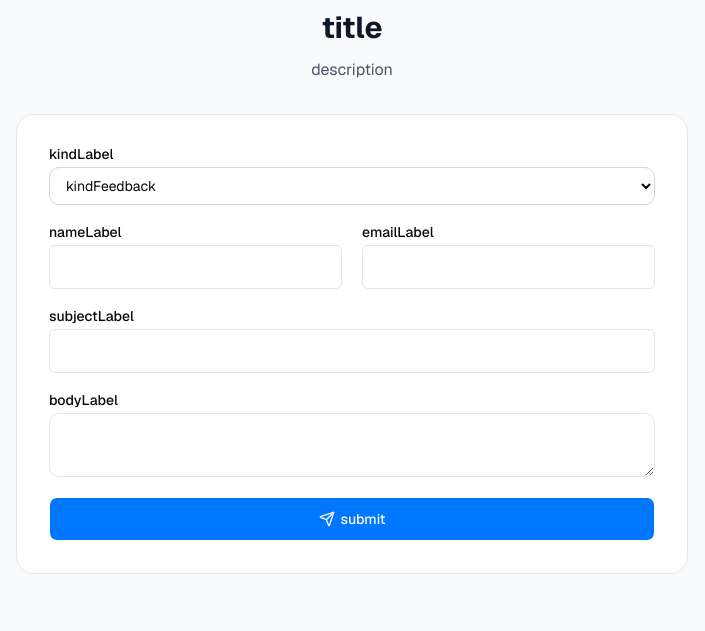
it: ContactForm › shows an error when the message is empty
In the field labelled "emailLabel": (508, 267) left=362, top=245, right=655, bottom=289, type "jane@example.com"
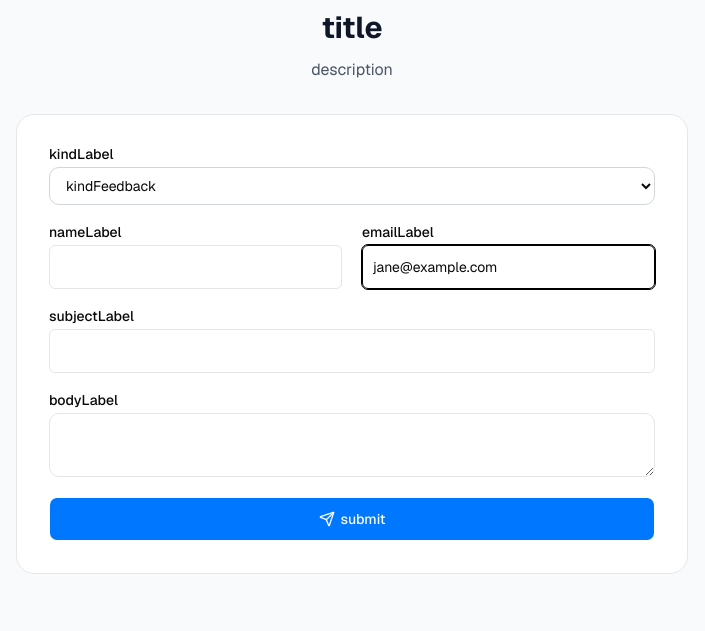
Click the button "submit": click(352, 519) left=49, top=497, right=655, bottom=541
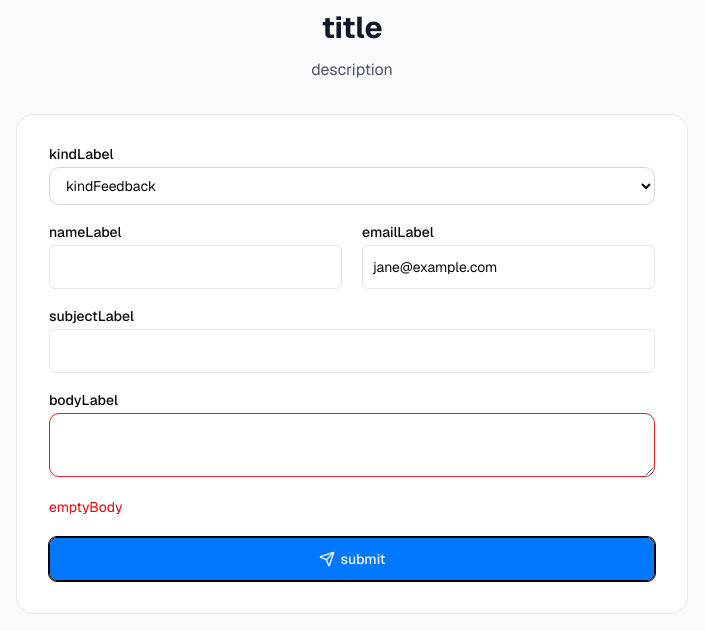
Expected: the message reads "emptyBody", left=49, top=498, right=122, bottom=516
